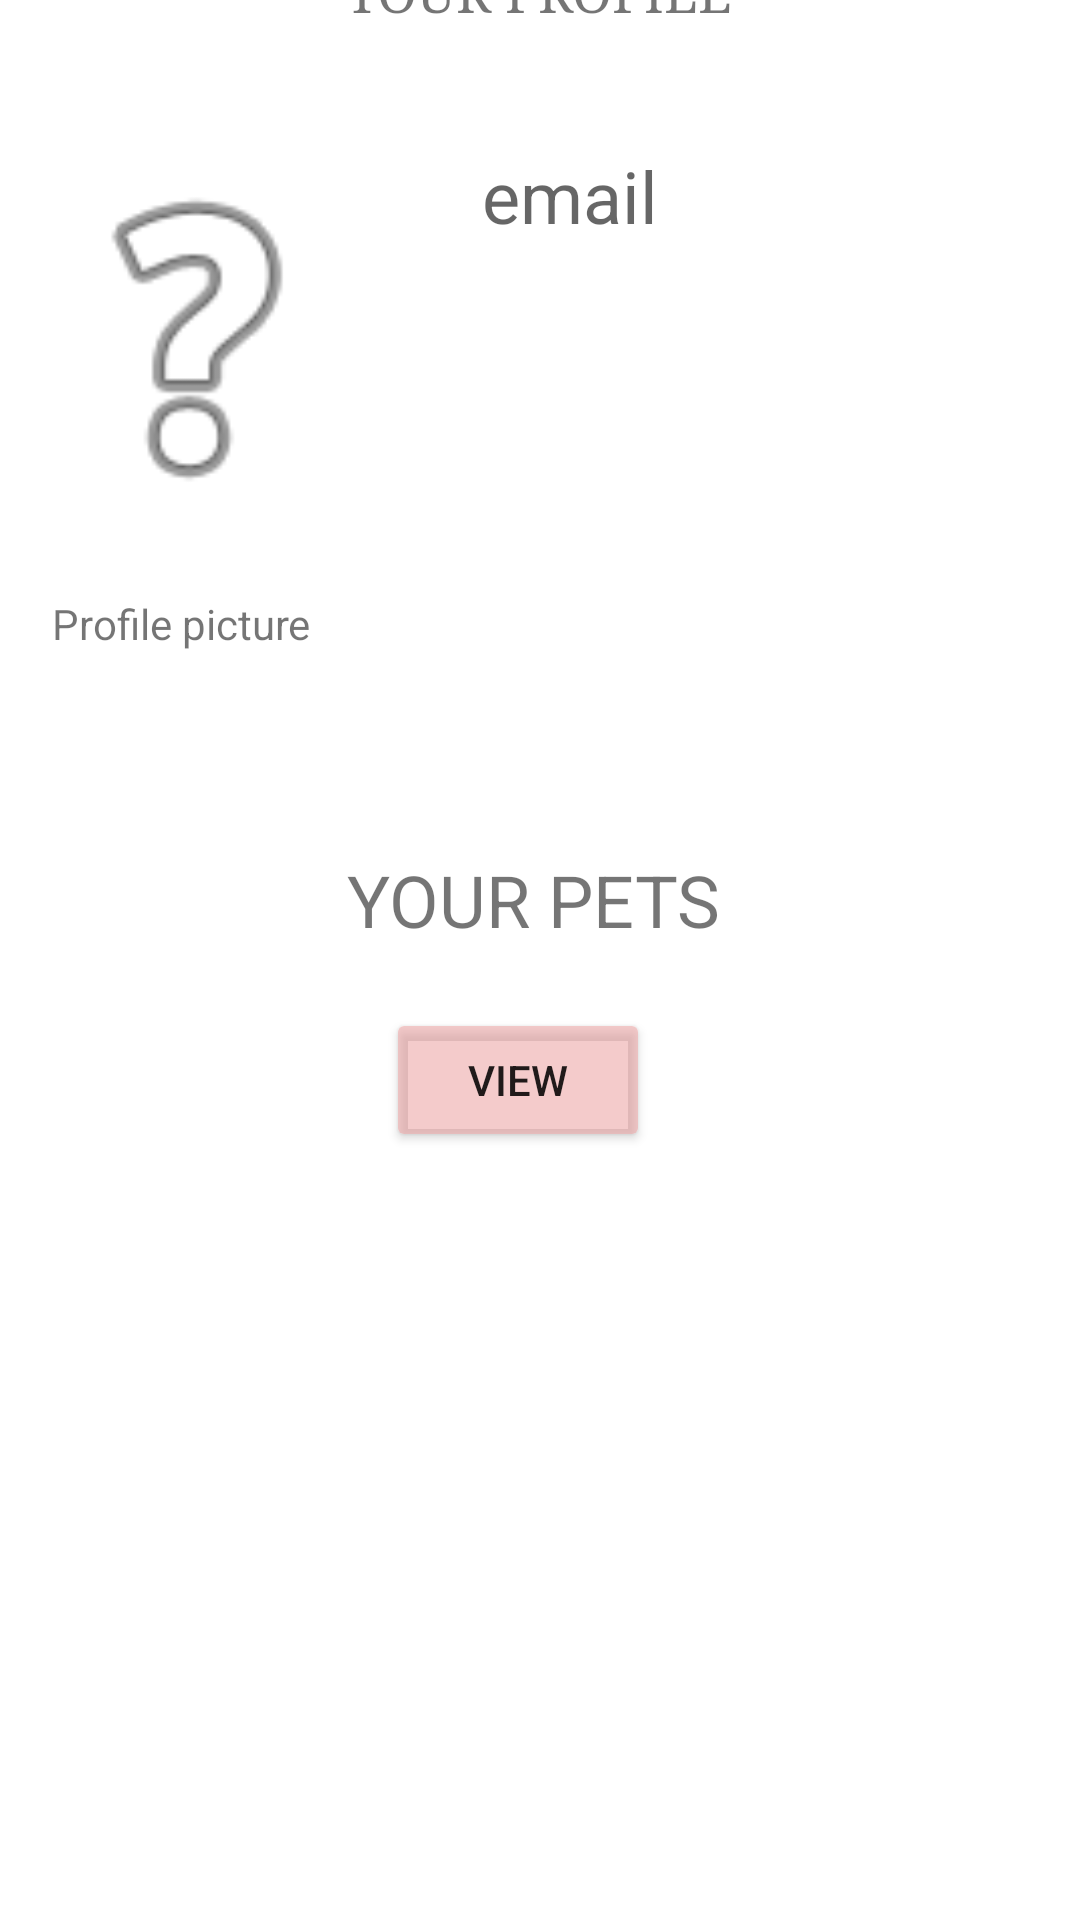

Icons on this 1080 × 1920 Android screen, each with its box as (x1, y1, x2, y2):
help: (112, 200, 282, 478)
